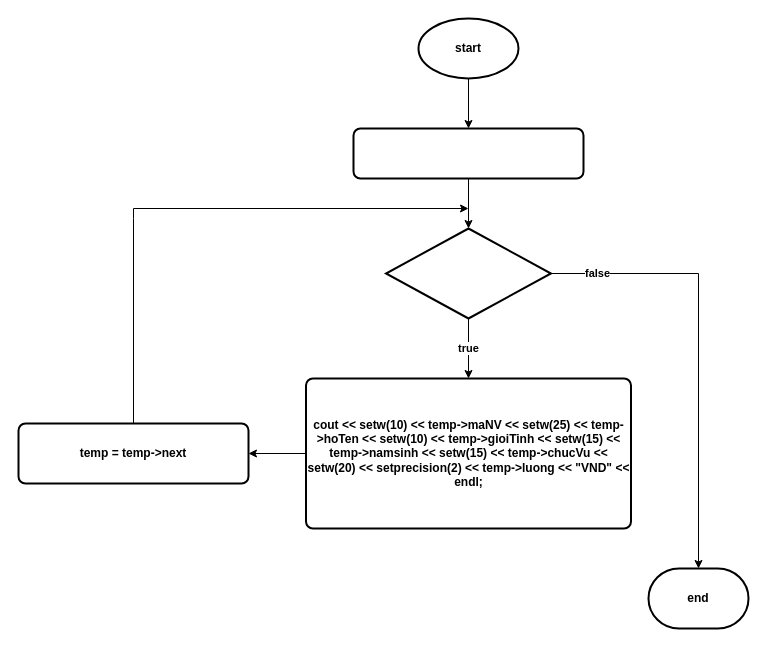
Image size: 766x646. Some labels were removed from this diagram. Here are the shapes that lost their labels. From the top down, the box of each, then its label:
(352, 127, 584, 179): nhanVien *temp = dsNhanVien
(384, 227, 552, 319): temp != nullptr
